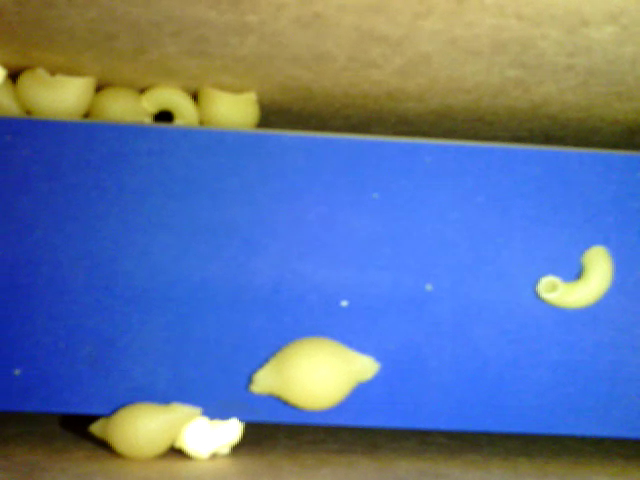elbow: (251, 334, 380, 408), (89, 400, 205, 458), (536, 245, 614, 310), (196, 81, 260, 131), (142, 85, 202, 123)
shell: (15, 66, 95, 121), (88, 85, 153, 125)
